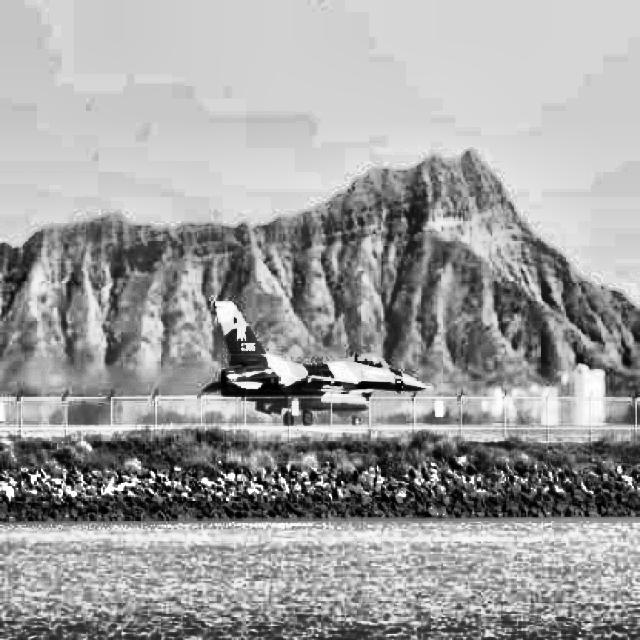F16: (201, 300, 433, 426)
